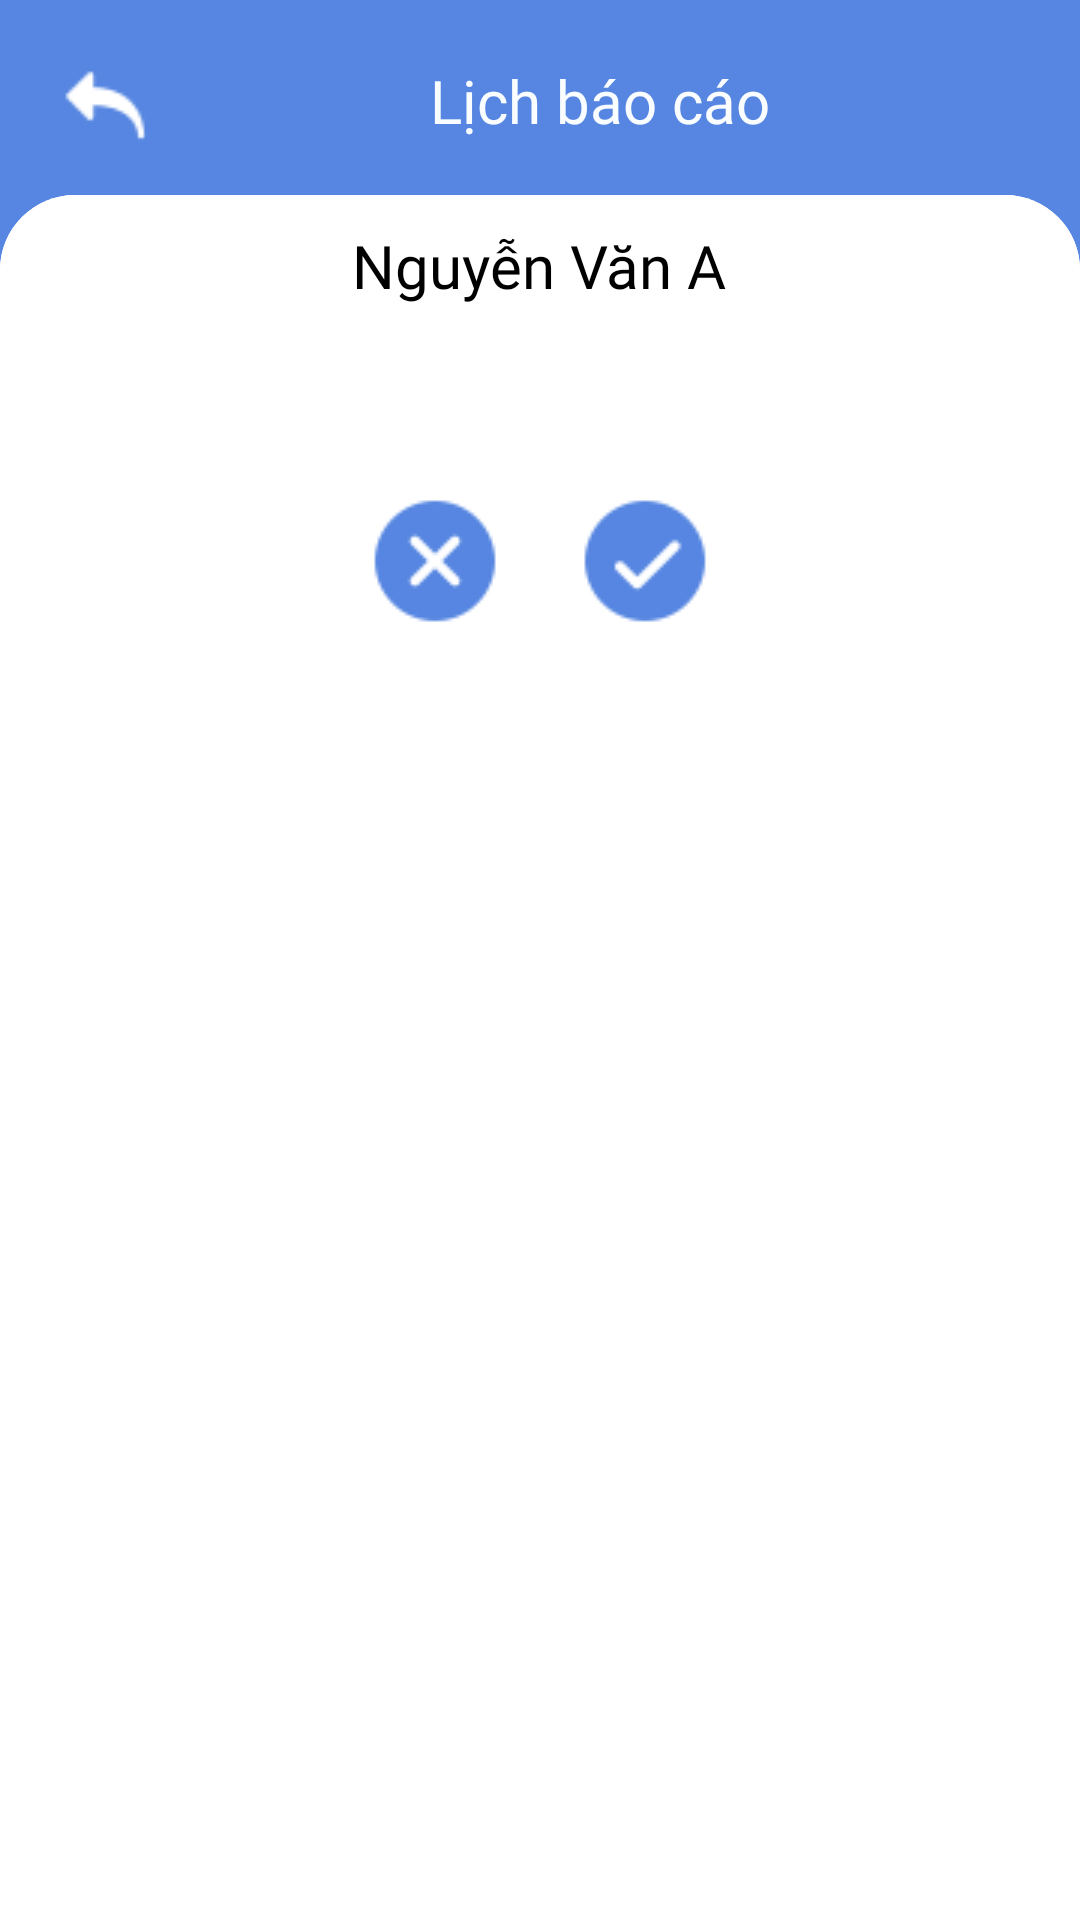

Icons on this 1080w x 1920h Android screen, each with the point to tap as (x=x, y=y):
accept: (x=645, y=561)
backarrow: (x=105, y=105)
cancel: (x=435, y=561)
